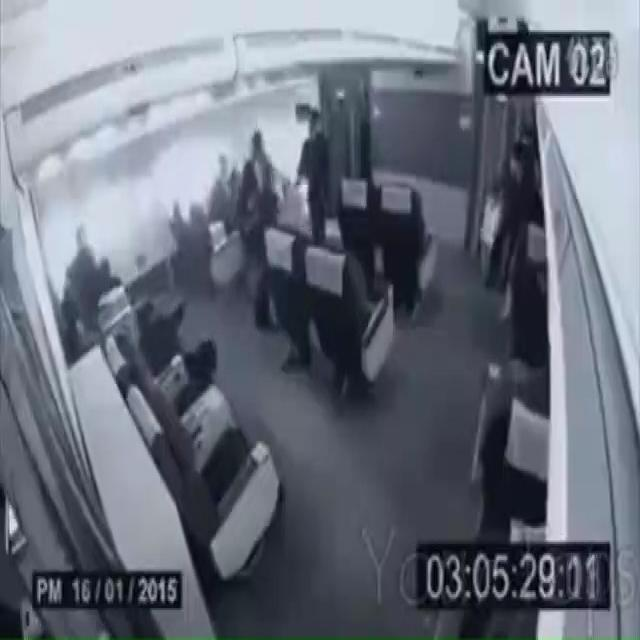fight: (244, 110, 333, 326)
